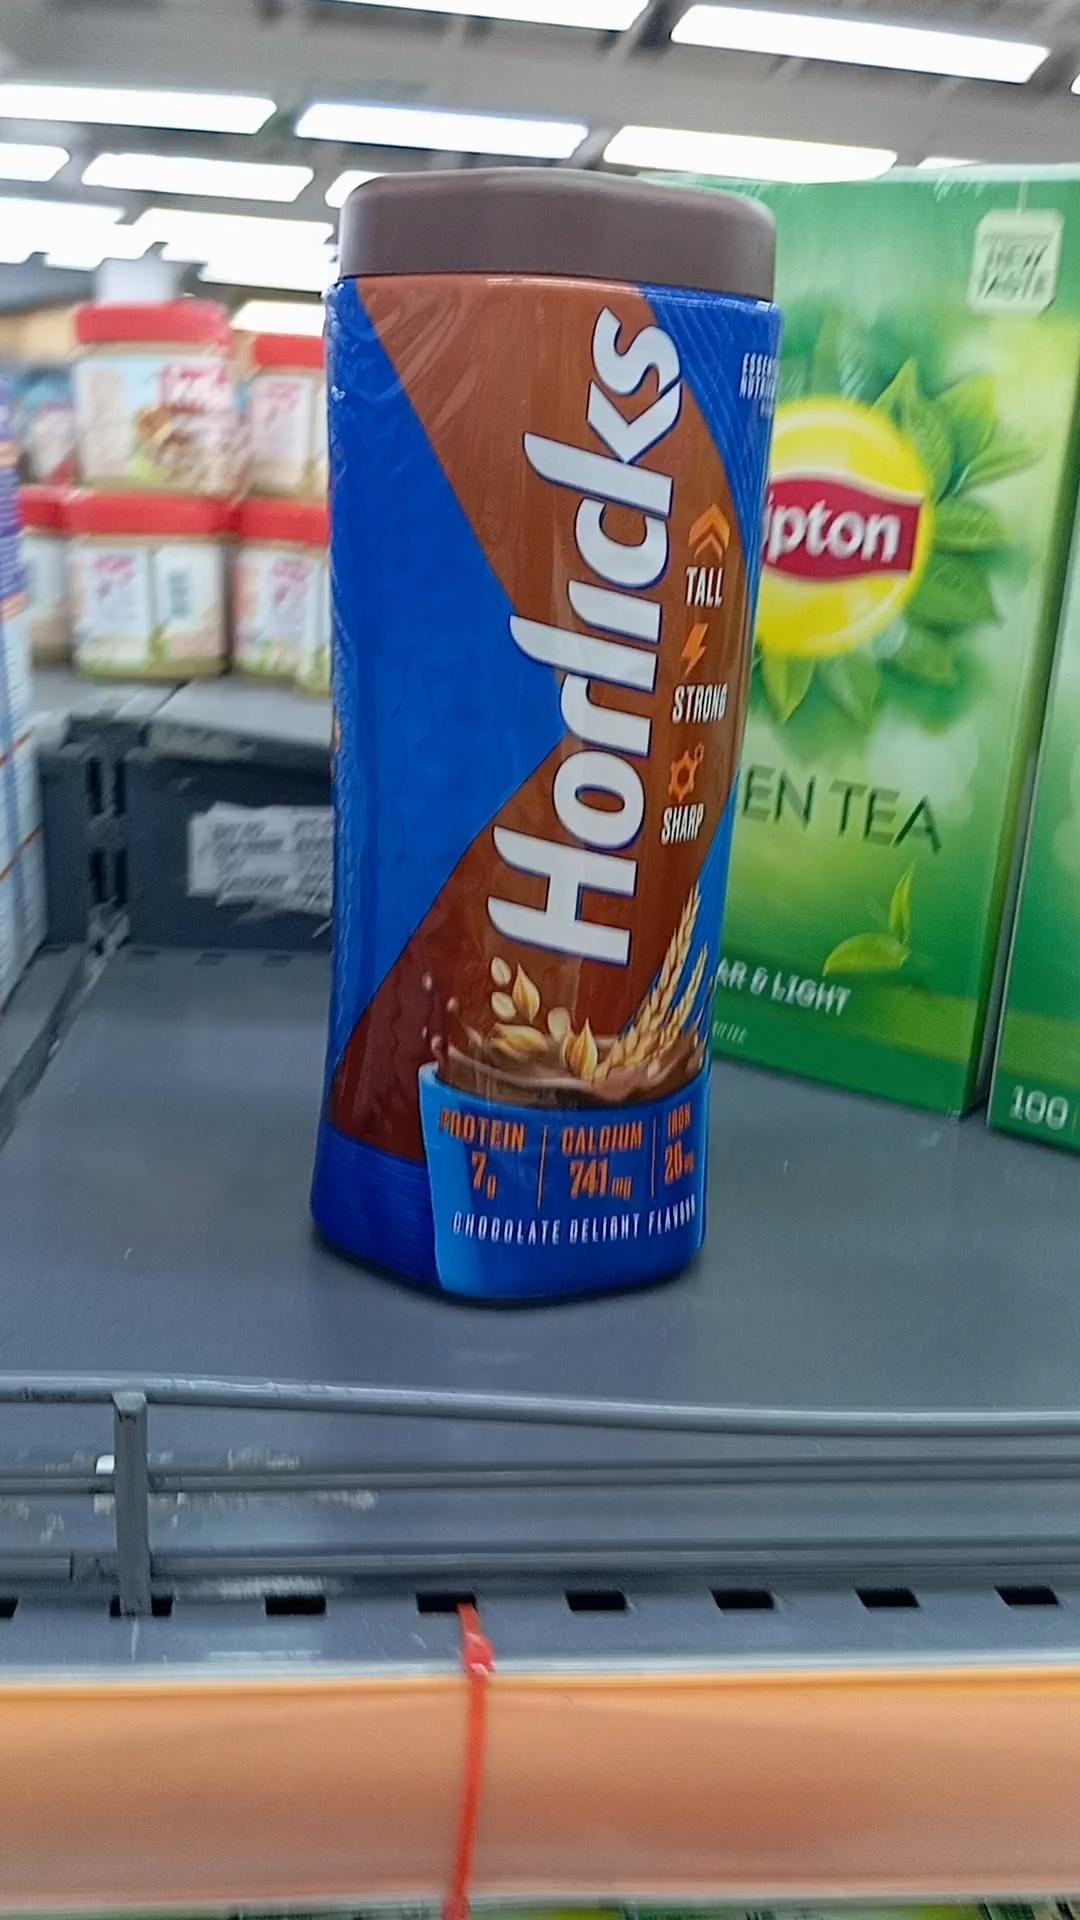HORLICK_CHOCOLATE_1_KG_JAR: (305, 169, 766, 1313)
